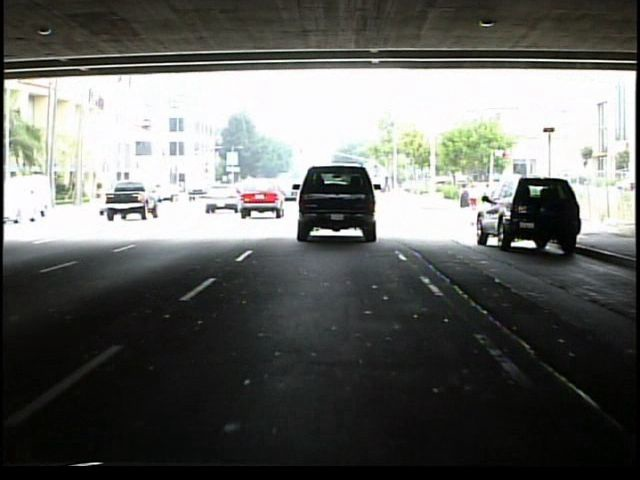person: (456, 181, 471, 215), (469, 185, 478, 210)
